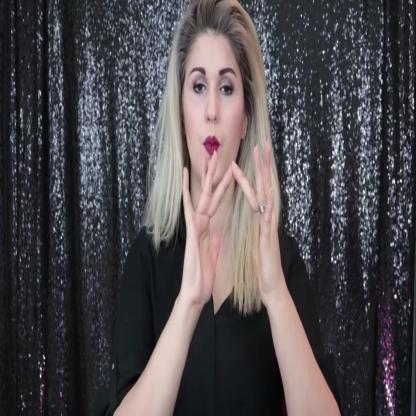Internet: (165, 126, 296, 296)
